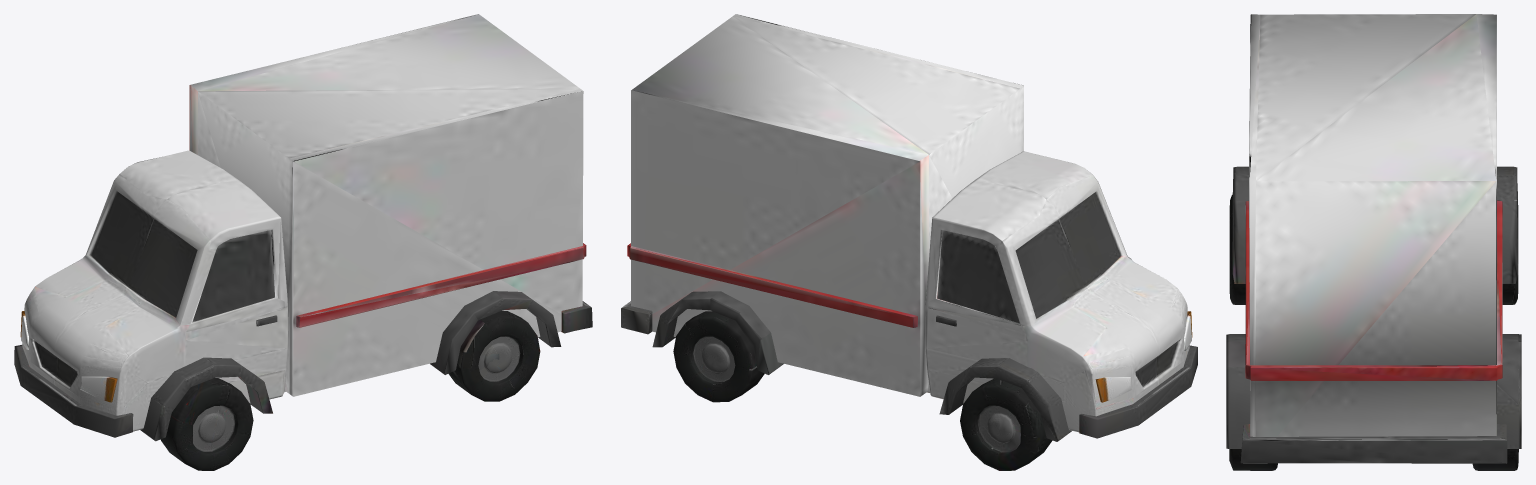
The model's file is 48-delivery-truck.glb.
The picture shows the model from 3 angles, left to right: view 1: azimuth 30°, elevation 25°; view 2: azimuth 150°, elevation 25°; view 3: azimuth 270°, elevation 25°; orthographic projection. The views are drawn at different scales.
Visible parts, largest first — view 1: geometry_0; view 2: geometry_0; view 3: geometry_0.
Part boxes in pixels (bbox=[...]): geometry_0: bbox=[14, 14, 592, 470]; geometry_0: bbox=[621, 14, 1197, 470]; geometry_0: bbox=[1226, 14, 1521, 470].
Bounding box in the file's own units: 0.9536 × 0.5303 × 0.4213.
1 material, 1 textured.
